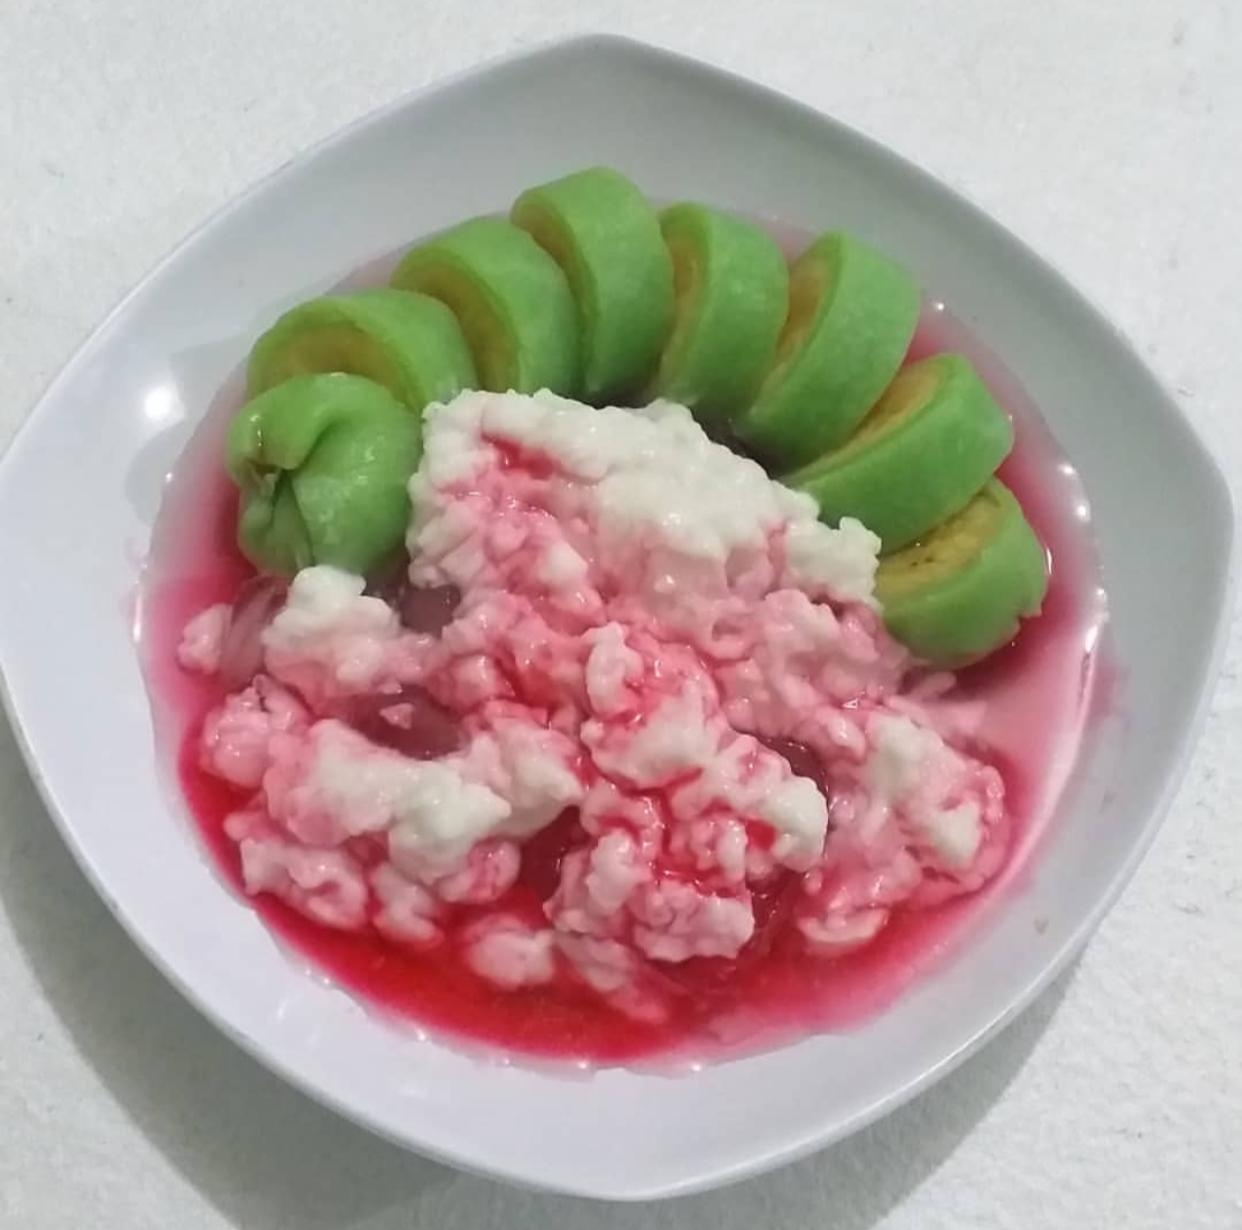es_pisang_ijo: (175, 173, 1091, 1071)
